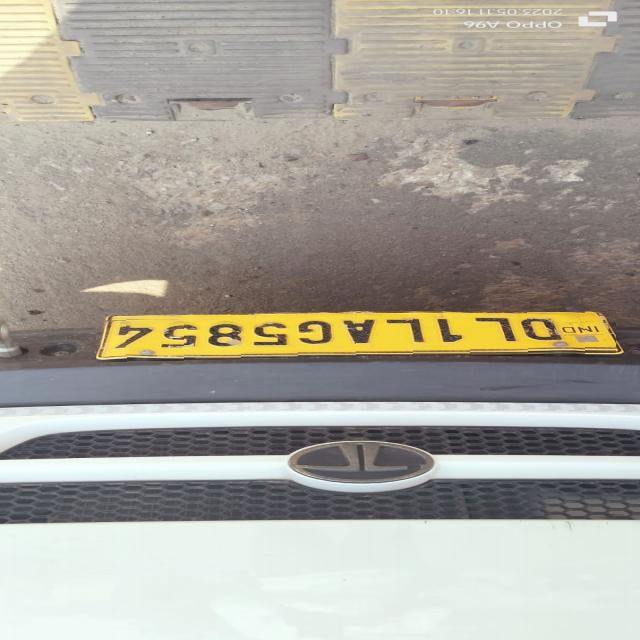License-plate: (96, 313, 616, 359)
